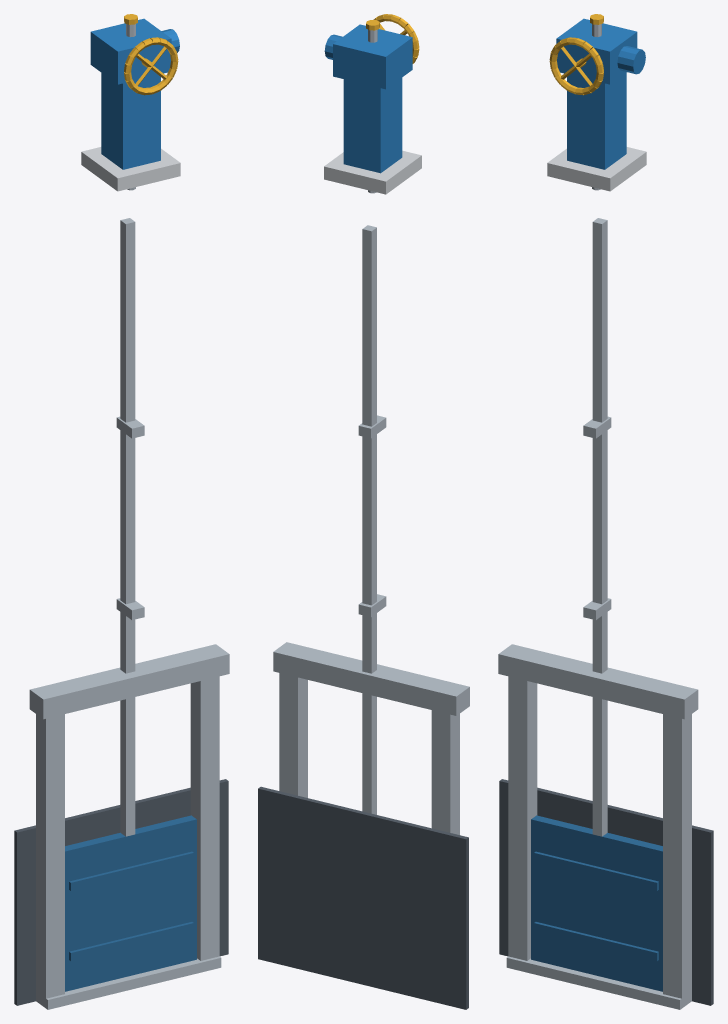
Rendered from gate-controlled.glb.
3 renders of one model, left to right at view 1: azimuth 30°, elevation 25°; view 2: azimuth 150°, elevation 25°; view 3: azimuth 330°, elevation 25°, orthographic.
Parts seen in each view (by area): view 1: GateControlledFrame, GateControlledPlateMesh, GateControlledHeadstock, GateControlledWheel; view 2: GateControlledFrame, GateControlledHeadstock, GateControlledPlateMesh, GateControlledWheel; view 3: GateControlledFrame, GateControlledPlateMesh, GateControlledHeadstock, GateControlledWheel.
Part boxes in pixels (x1,y1,x2,y2): GateControlledFrame: (14, 416, 229, 1009); GateControlledPlateMesh: (65, 218, 196, 991); GateControlledHeadstock: (81, 18, 180, 191); GateControlledWheel: (124, 37, 178, 95); GateControlledFrame: (258, 415, 469, 1009); GateControlledHeadstock: (324, 24, 421, 194); GateControlledPlateMesh: (362, 225, 376, 814); GateControlledWheel: (373, 14, 419, 63); GateControlledFrame: (498, 416, 713, 1009); GateControlledPlateMesh: (531, 218, 662, 991); GateControlledHeadstock: (547, 18, 646, 191); GateControlledWheel: (549, 37, 603, 95).
Bounding box in the file's own units: 1.34 × 5.87 × 0.44.
Materials: 1 (1 with a texture image).
